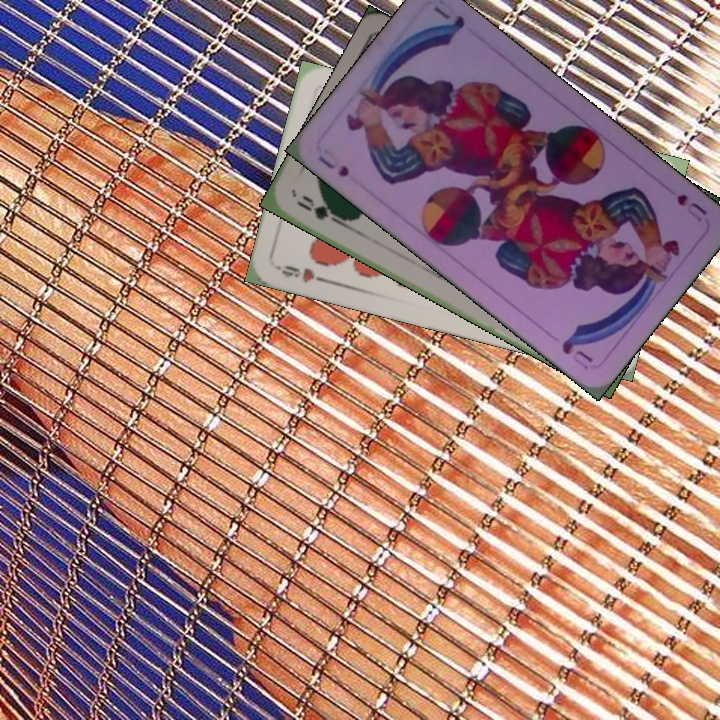GO: (292, 191, 347, 228)
H9: (273, 261, 332, 286)
SU: (672, 190, 710, 224), (314, 151, 352, 180)
